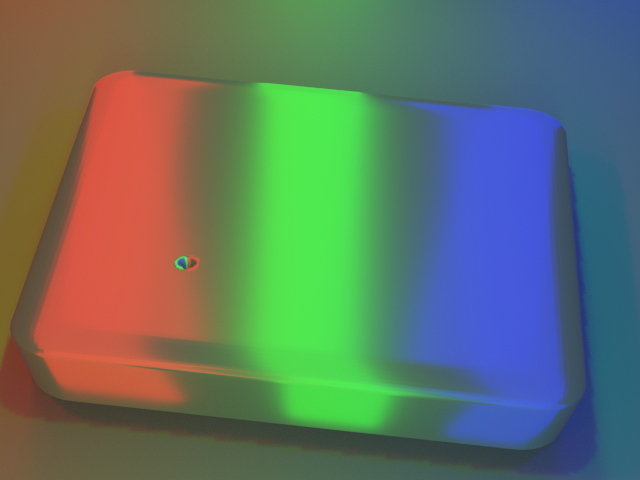dent: (148, 244, 195, 289)
